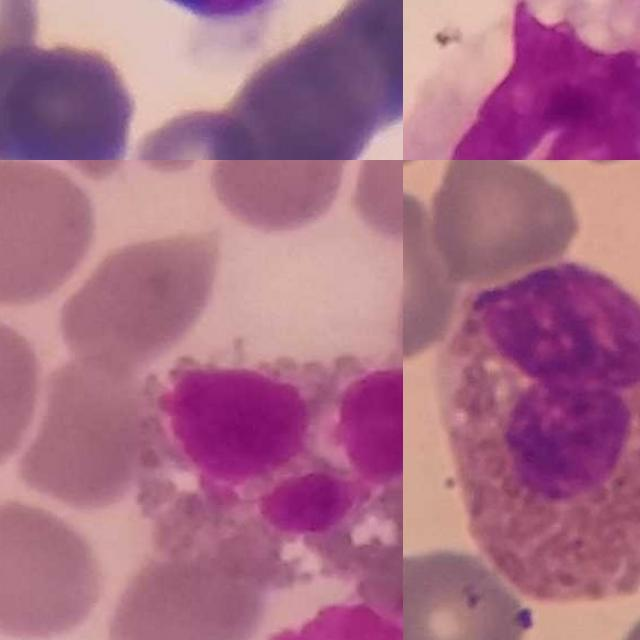Eosinophil: (435, 264, 640, 604), (137, 345, 403, 585)
Lymphocyte: (225, 589, 403, 640)
Monocyte: (403, 0, 640, 160)
